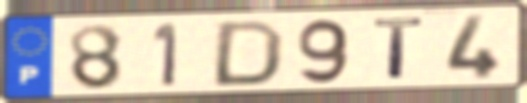1: (149, 21, 179, 89)
4: (443, 12, 505, 82)
8: (66, 23, 125, 92)
9: (294, 17, 351, 85)
D: (207, 18, 288, 88)
T: (371, 15, 428, 82)
